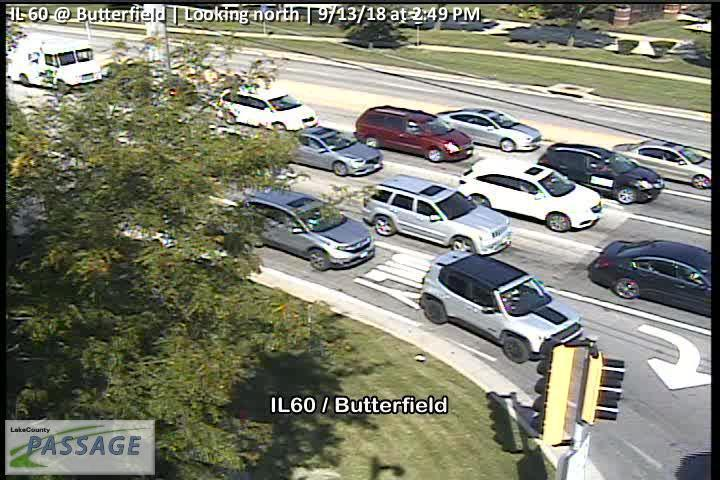SUV: (420, 250, 582, 364), (364, 173, 512, 258), (241, 187, 377, 272), (537, 141, 665, 207), (355, 104, 473, 164), (10, 34, 102, 90), (220, 85, 319, 132)
Sedan: (457, 157, 605, 235), (587, 241, 712, 318), (614, 138, 712, 191), (435, 106, 541, 154), (287, 126, 383, 177)
